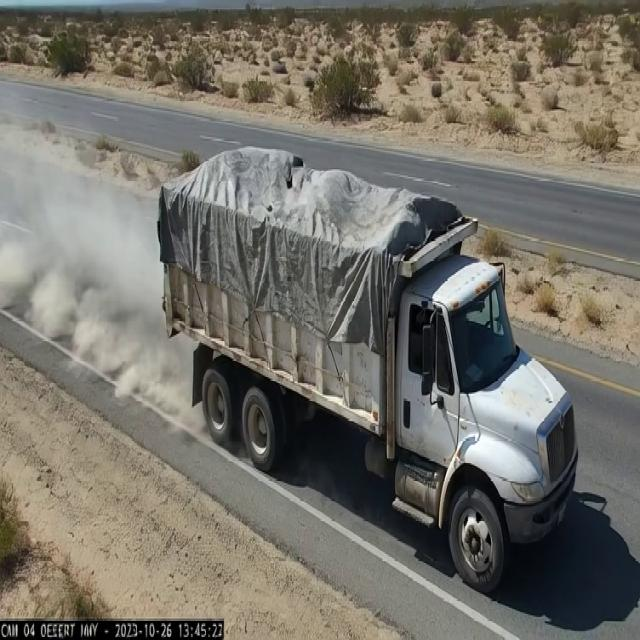Box: (160, 153, 480, 250)
Truck: (147, 146, 600, 473)
